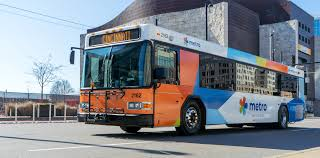bus: (68, 23, 306, 137)
